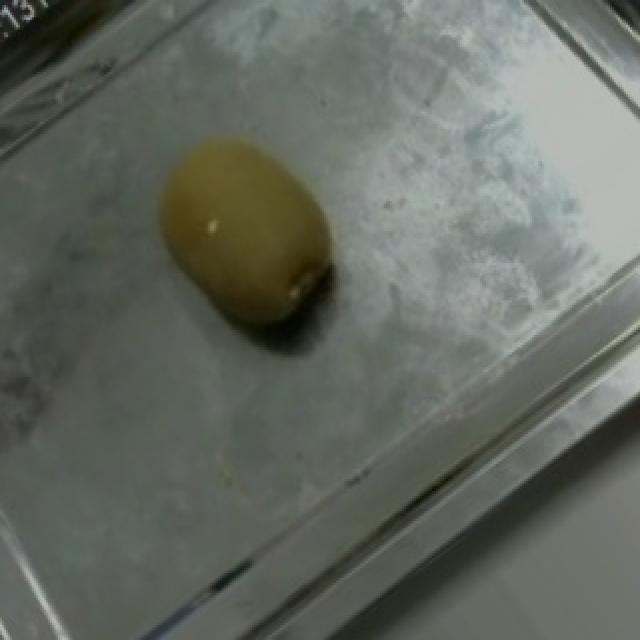Fruit: (116, 94, 372, 372)
